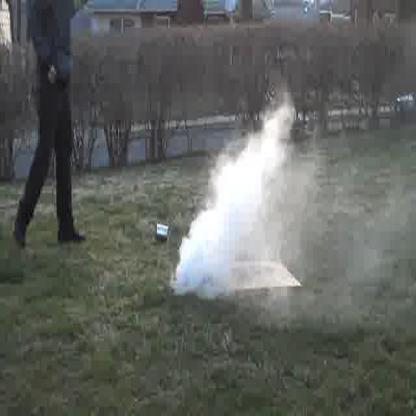Smoke: (171, 104, 328, 296)
